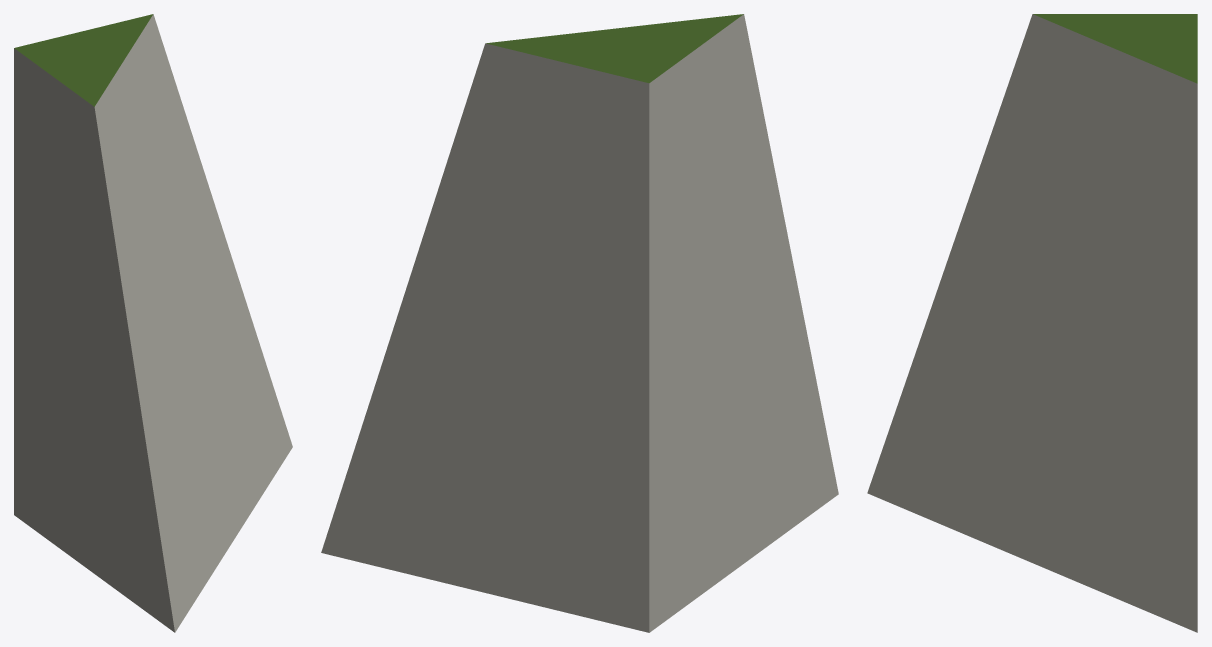
The model's file is Terrain_Modular_Tiles_Grass_Rock_Cliff_Side_Outer_Corner_01.fbx.
3 views of the same model, side by side, from view 1: azimuth 30°, elevation 25°; view 2: azimuth 150°, elevation 25°; view 3: azimuth 270°, elevation 25° (orthographic). The views are drawn at different scales.
Parts seen in each view (by area): view 1: Terrain_Modular_Tiles_Grass_Rock_Cliff_Side_Outer_Corner_01; view 2: Terrain_Modular_Tiles_Grass_Rock_Cliff_Side_Outer_Corner_01; view 3: Terrain_Modular_Tiles_Grass_Rock_Cliff_Side_Outer_Corner_01.
Boxes of the visible parts, x1,y1,x2,y2 form: Terrain_Modular_Tiles_Grass_Rock_Cliff_Side_Outer_Corner_01: (14, 14, 292, 632); Terrain_Modular_Tiles_Grass_Rock_Cliff_Side_Outer_Corner_01: (321, 14, 838, 632); Terrain_Modular_Tiles_Grass_Rock_Cliff_Side_Outer_Corner_01: (867, 14, 1197, 632).
Bounding box in the file's own units: 1500 × 2400 × 1500.
